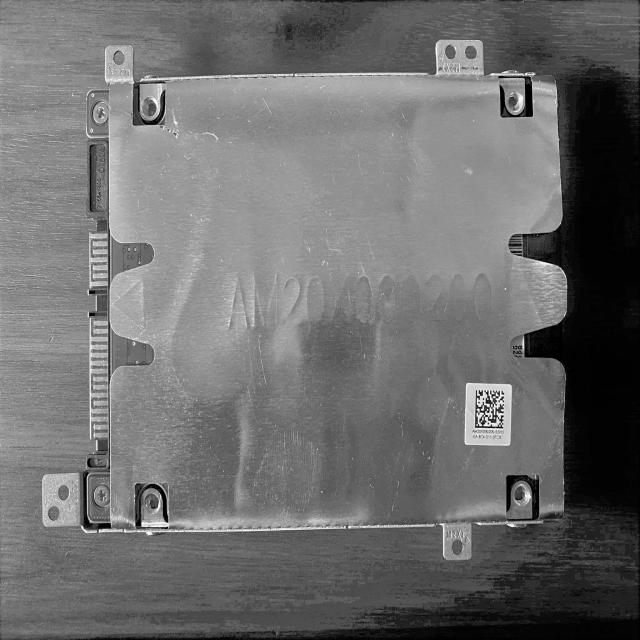PhillipsScrewHead: (93, 483, 111, 509)
